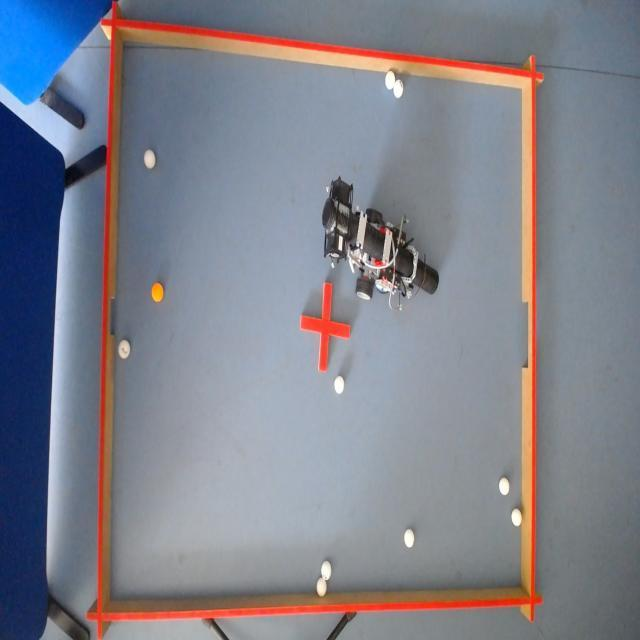orange: (152, 282, 166, 304)
robot: (322, 188, 438, 307)
white: (143, 148, 155, 172), (404, 528, 416, 550), (315, 576, 327, 597), (322, 559, 332, 582), (498, 476, 510, 495), (394, 79, 406, 98), (334, 374, 344, 396), (384, 68, 394, 89), (512, 507, 522, 526), (120, 340, 130, 358)
